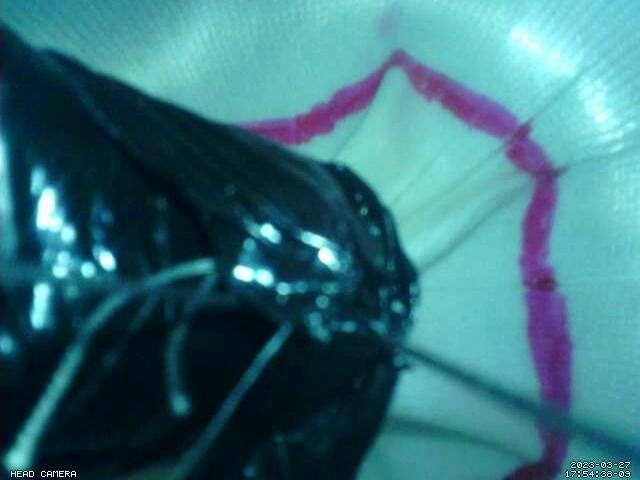red-circle: (237, 48, 575, 480)
